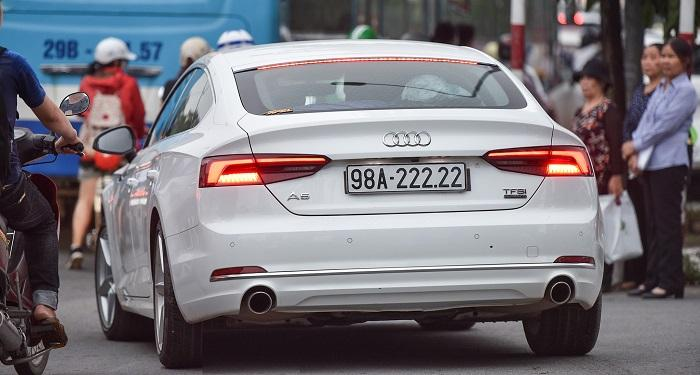numplate: (343, 158, 470, 197)
